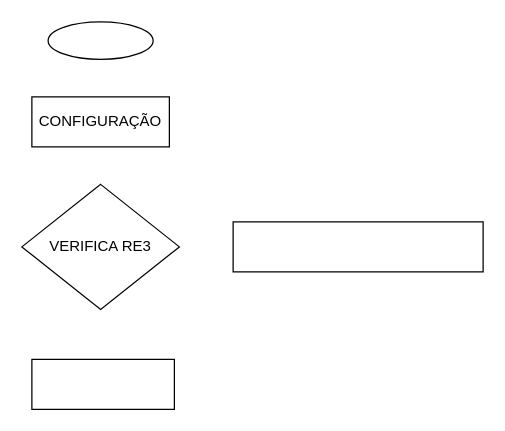
The diagram is 505 pixels wide and 431 high, and some of its shapes have lost their labels. The shapes that lost their labels are listed below. From the top down, each one's box as (x1, y1, x2, y2) in pixels, then its label:
(47, 21, 153, 59): START
(232, 221, 483, 272): ALTERNA O MODO DE EXIBIÇÃO DO DISPLAY
